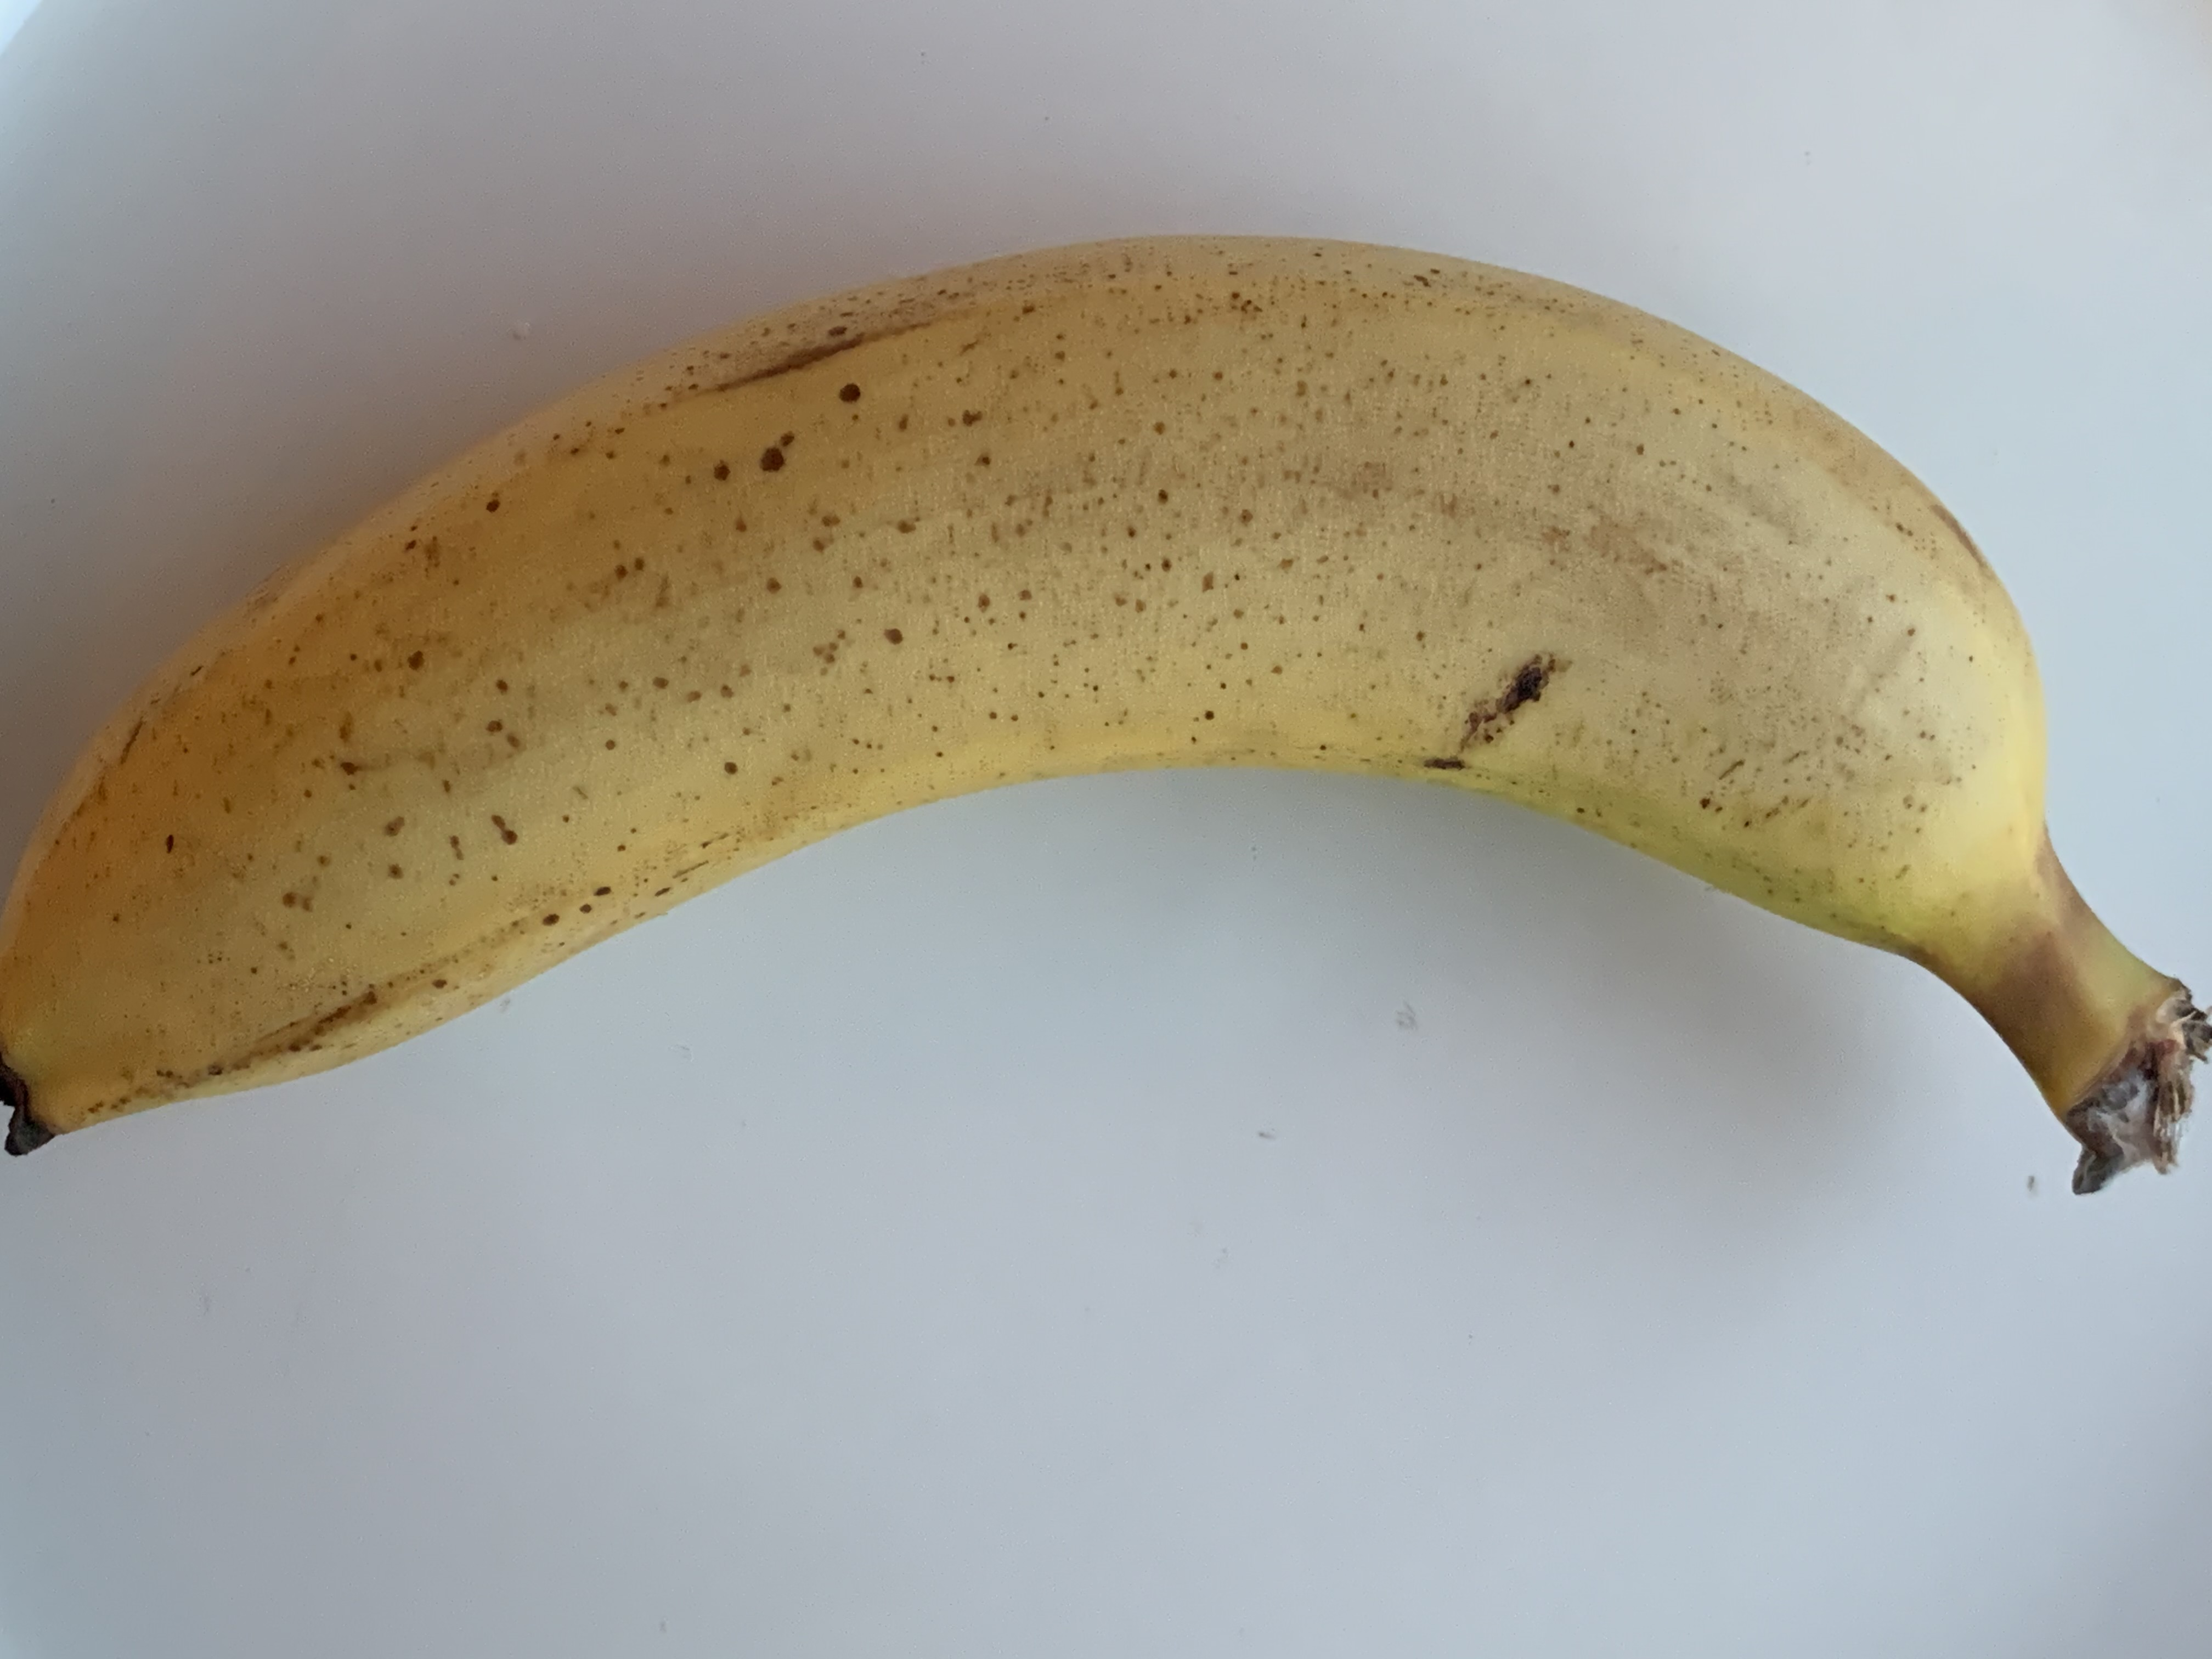banana: (7, 232, 2212, 1317)
